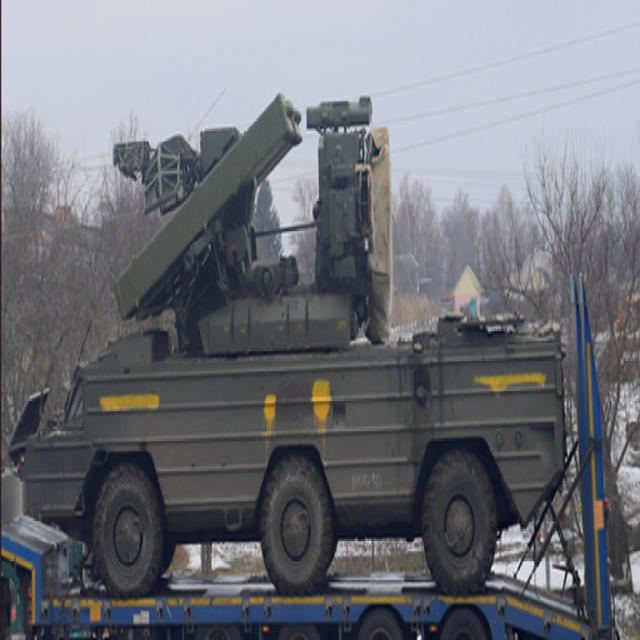MLRS: (11, 71, 566, 600)
